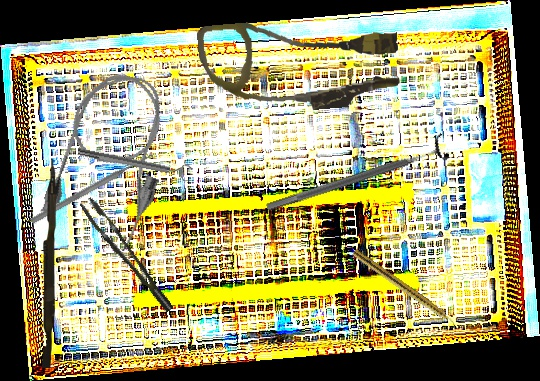Cannula: (36, 61, 188, 255), (196, 9, 403, 120)
Fixation Ring: (262, 132, 451, 222), (76, 141, 193, 184)
Handpiece: (350, 248, 460, 330)
Pusher: (29, 151, 154, 226), (42, 159, 56, 368)
Tissue Forceps: (79, 189, 174, 323)
